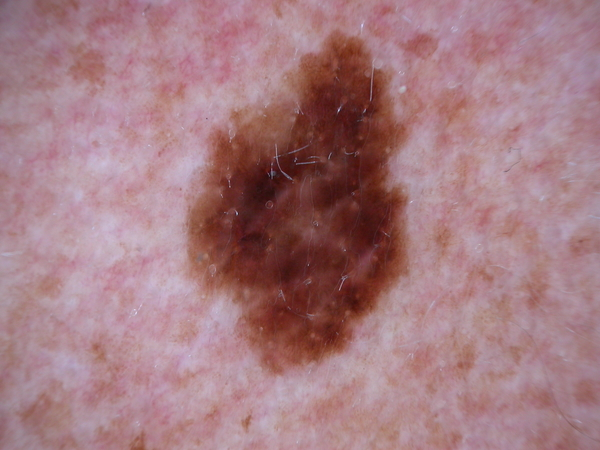Detected Lesion: (184, 27, 421, 388)
